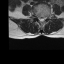CCS_normal: (40, 15, 42, 23)
LFS_normal: (45, 14, 47, 20)
LLS_normal: (42, 15, 45, 22)
RFS_normal: (36, 13, 38, 20)
RLS_normal: (38, 15, 40, 22)
